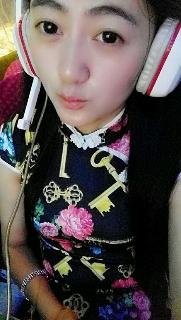vest: (0, 104, 181, 320)
